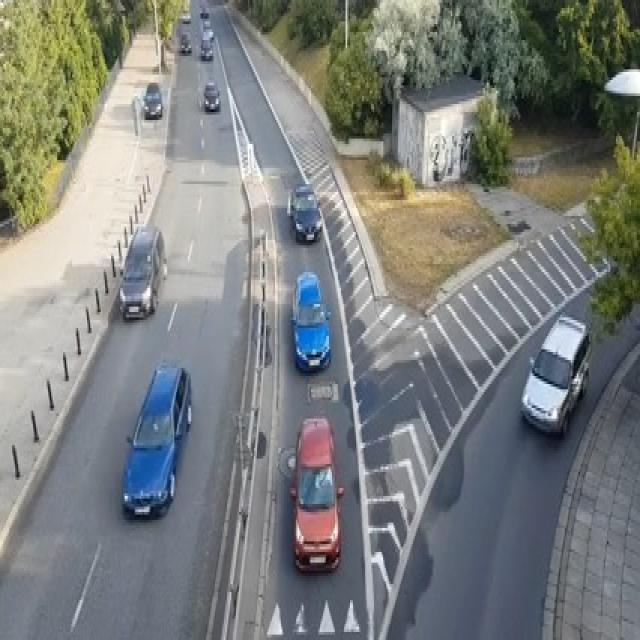car: (120, 363, 192, 517), (287, 416, 344, 573), (520, 312, 590, 437), (118, 224, 166, 320), (290, 269, 330, 371), (286, 181, 322, 243), (141, 83, 162, 117), (203, 80, 219, 109), (200, 37, 212, 59), (180, 32, 191, 53), (202, 27, 214, 40), (180, 8, 191, 21), (198, 8, 209, 16), (203, 18, 210, 26)
